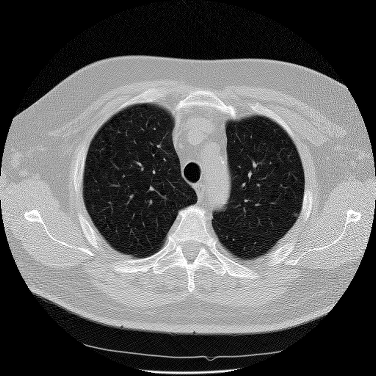nodule: (294, 213, 298, 217)
